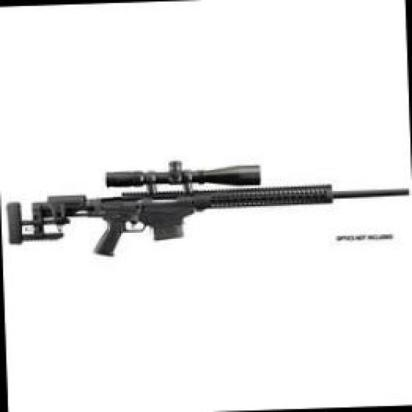Gun: (3, 156, 412, 262)
